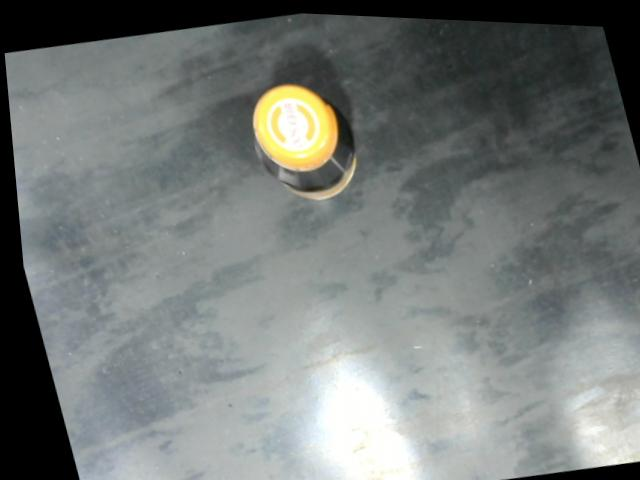glass: (238, 70, 367, 209)
